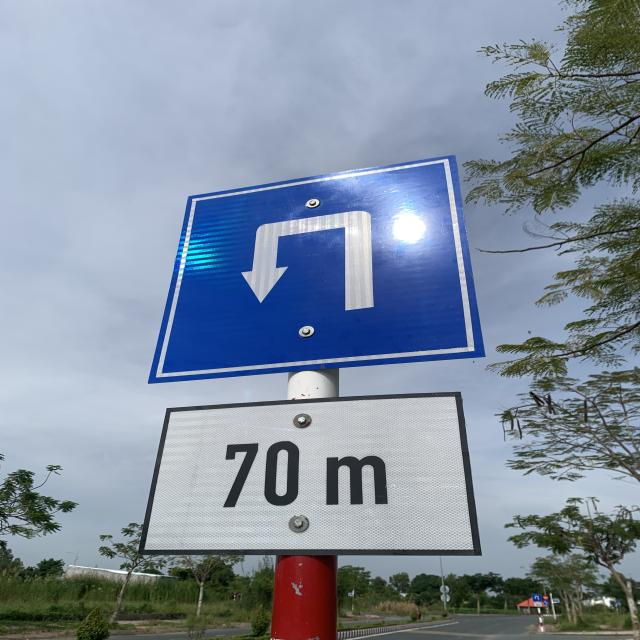Den_Giao_Thong: (148, 152, 488, 380)
